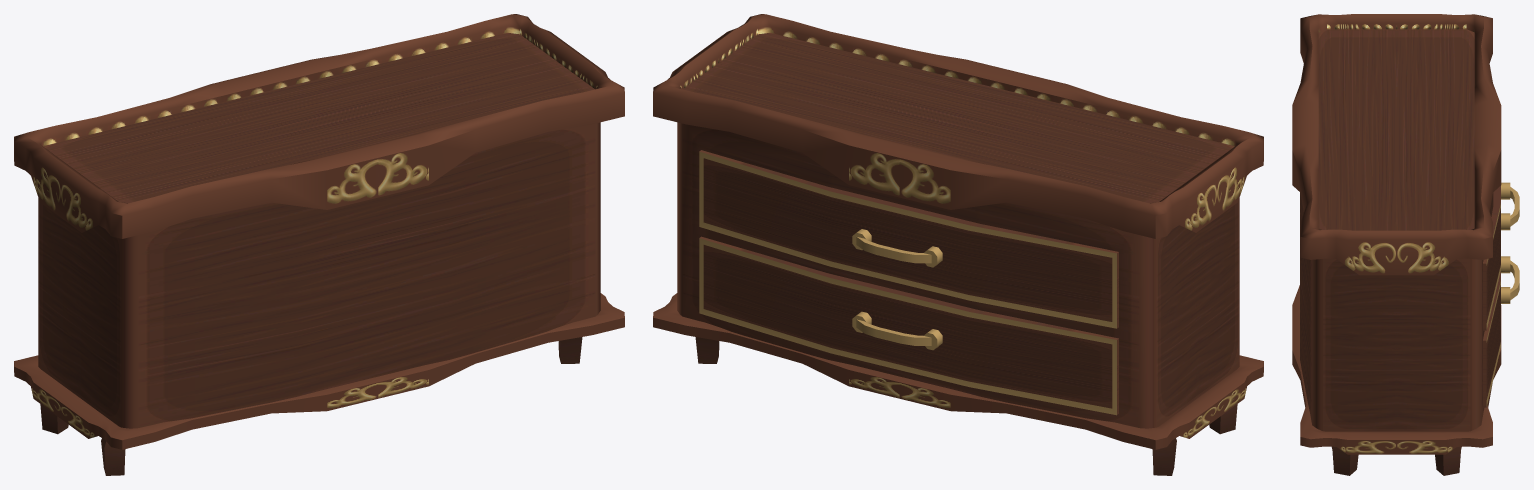
Rendered from Anim.fbx.
3 views of the same model, side by side, from view 1: azimuth 30°, elevation 25°; view 2: azimuth 150°, elevation 25°; view 3: azimuth 270°, elevation 25° (orthographic). The views are drawn at different scales.
Parts seen in each view (by area): view 1: Drawers; view 2: Drawers, Draw (1); view 3: Drawers, Draw (1).
Boxes of the visible parts, box(x1,y1,x2,y2) form: Drawers: box(14, 14, 624, 475); Drawers: box(653, 14, 1263, 475); Draw (1): box(699, 150, 1118, 328); Drawers: box(1292, 14, 1519, 475); Draw (1): box(1483, 182, 1519, 330).
Bounding box in the file's own units: 3.38 × 1.77 × 1.45.
1 material, 1 textured.
